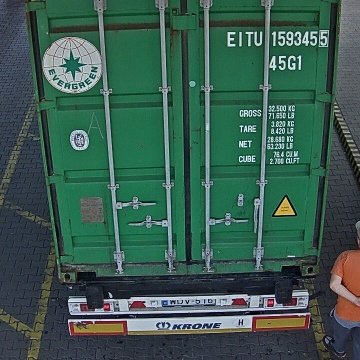serial_id: (227, 29, 328, 46)
